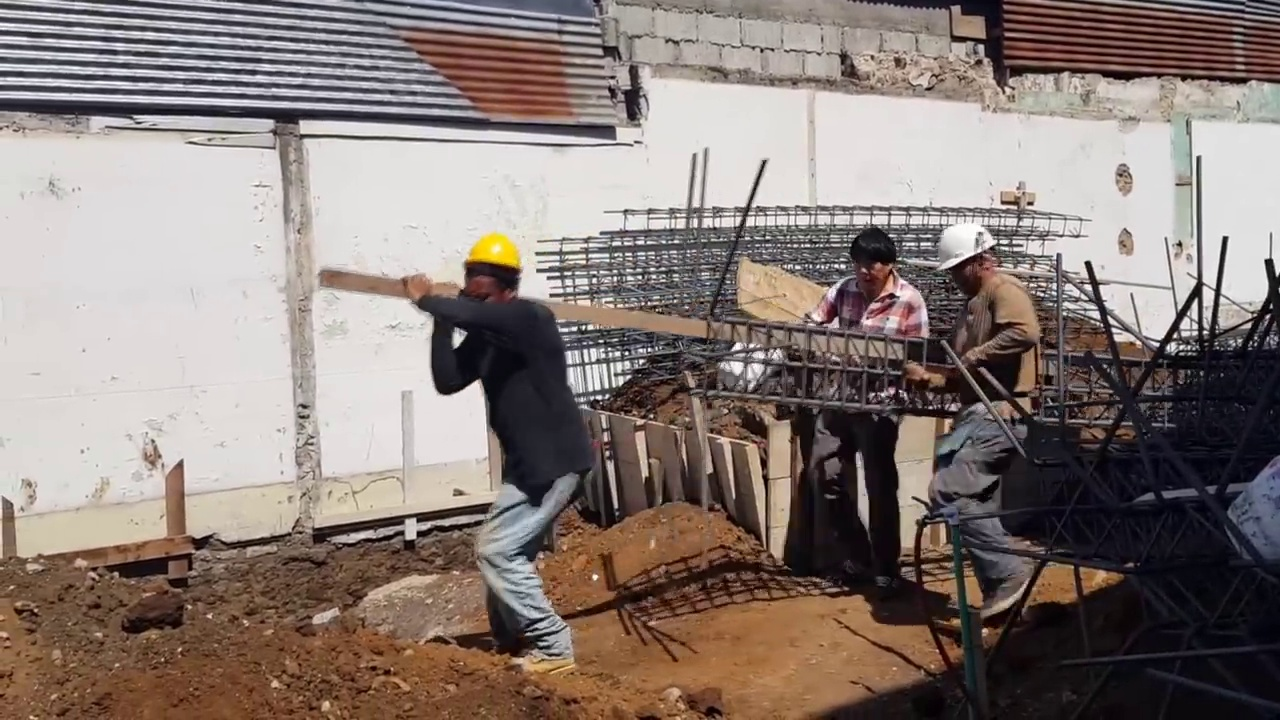helmet: (941, 219, 1002, 272), (465, 239, 523, 267)
helmet-off: (851, 228, 902, 296)
helmet-on: (461, 236, 524, 329), (938, 219, 1006, 299)
person: (417, 221, 602, 688), (761, 225, 925, 604), (919, 215, 1044, 663)
